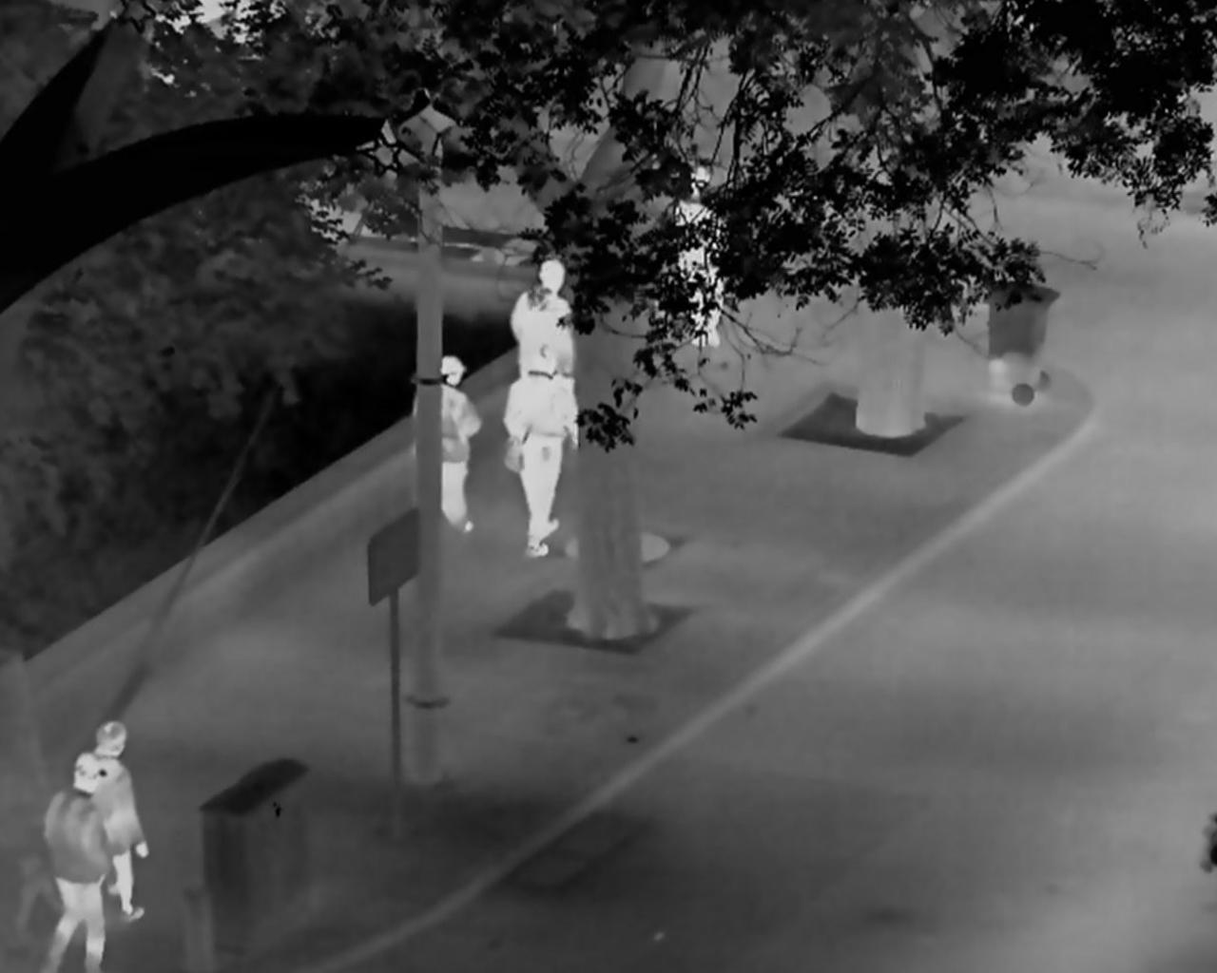person: (501, 342, 578, 555), (77, 721, 153, 924), (40, 749, 108, 973), (411, 353, 484, 535), (666, 164, 730, 348), (508, 258, 578, 375)
